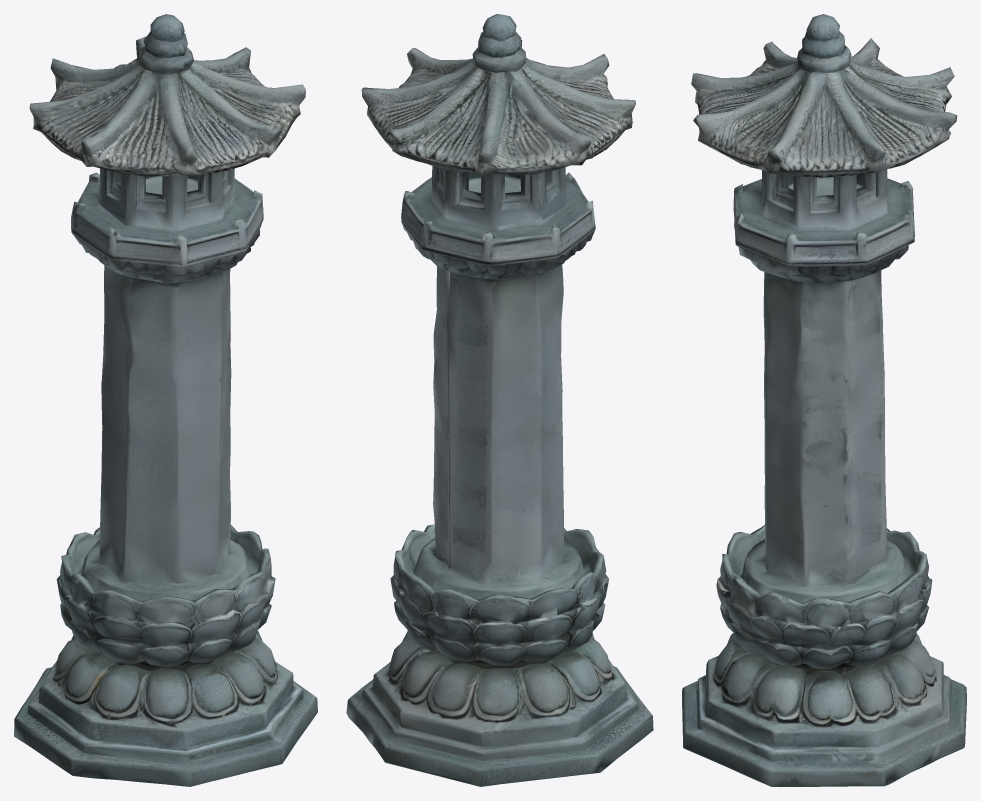
File: prop_shaolin_pillar.glb
3 views of the same model, side by side, from view 1: azimuth 30°, elevation 25°; view 2: azimuth 150°, elevation 25°; view 3: azimuth 270°, elevation 25° (orthographic).
Visible parts, largest first — view 1: tripo_node_aca7cfd0-b7d4-49ce-b8a9-d0a11dc0fa00; view 2: tripo_node_aca7cfd0-b7d4-49ce-b8a9-d0a11dc0fa00; view 3: tripo_node_aca7cfd0-b7d4-49ce-b8a9-d0a11dc0fa00.
Part boxes in pixels (box(x1,y1,x2,y2)): tripo_node_aca7cfd0-b7d4-49ce-b8a9-d0a11dc0fa00: box(14, 14, 317, 786); tripo_node_aca7cfd0-b7d4-49ce-b8a9-d0a11dc0fa00: box(346, 14, 653, 786); tripo_node_aca7cfd0-b7d4-49ce-b8a9-d0a11dc0fa00: box(682, 14, 966, 786).
Size of the model in its own units: 0.3723 by 1 by 0.3639.
Materials: 1 (1 with a texture image).
